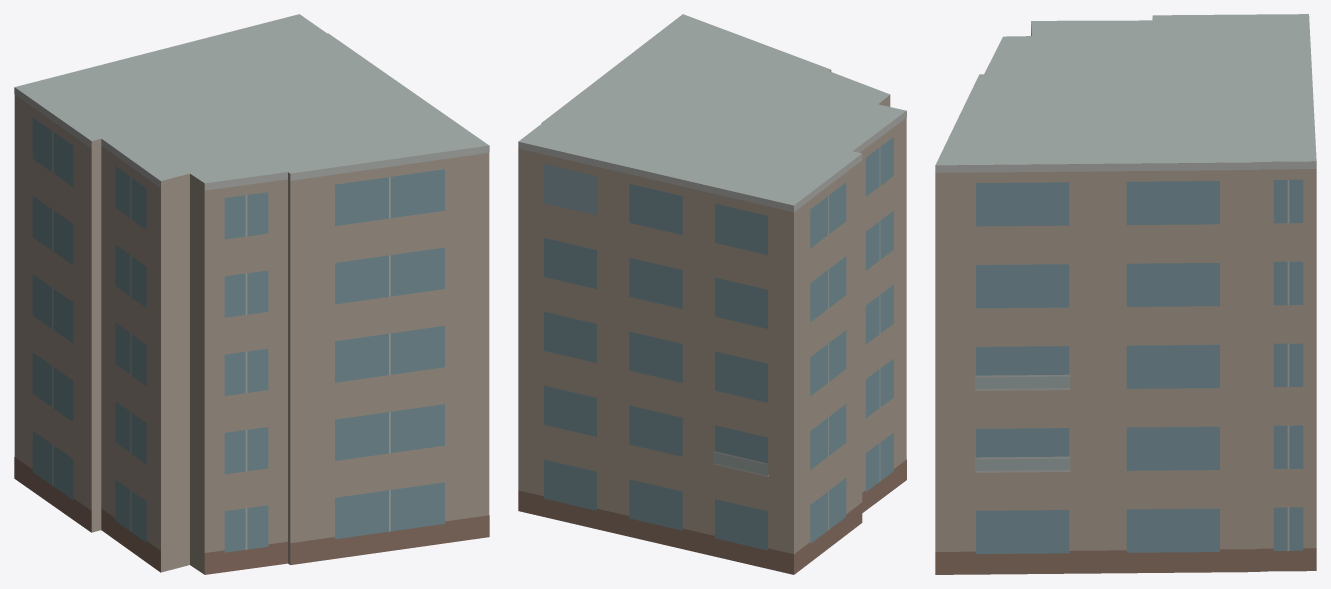
The model's file is survey-upis-32839337.glb.
3 renders of one model, left to right at view 1: azimuth 30°, elevation 25°; view 2: azimuth 150°, elevation 25°; view 3: azimuth 270°, elevation 25°, orthographic. The views are drawn at different scales.
Parts seen in each view (by area): view 1: survey-upis-32839337.tmp; view 2: survey-upis-32839337.tmp; view 3: survey-upis-32839337.tmp.
Part boxes in pixels (x1,y1,x2,y2): survey-upis-32839337.tmp: [14, 14, 489, 574]; survey-upis-32839337.tmp: [518, 14, 906, 574]; survey-upis-32839337.tmp: [935, 14, 1316, 574].
Bounding box in the file's own units: 10.49 × 13.22 × 11.17.
